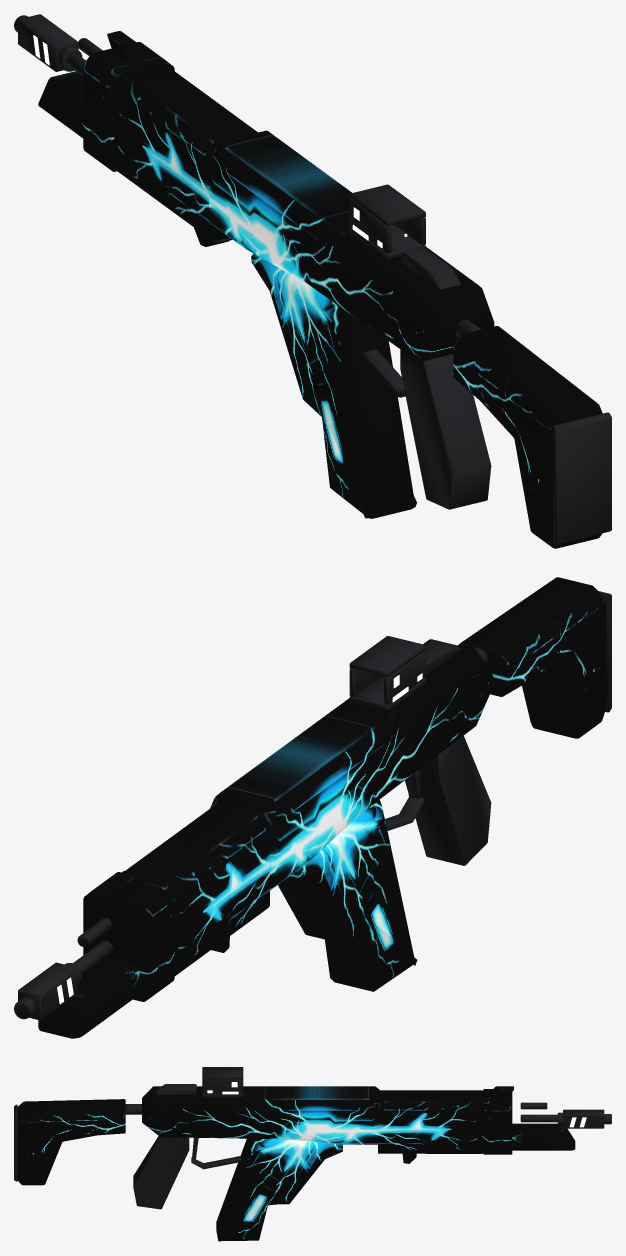
Rendered from pulse_carbine.glb.
The picture shows the model from 3 angles, top to bottom: view 1: azimuth 30°, elevation 25°; view 2: azimuth 150°, elevation 25°; view 3: azimuth 270°, elevation 25°; orthographic projection. The views are drawn at different scales.
Visible parts, largest first — view 1: PulseCarbine; view 2: PulseCarbine; view 3: PulseCarbine.
Boxes of the visible parts, x1=… form: PulseCarbine: x1=14, y1=14, x2=611, y2=548; PulseCarbine: x1=14, y1=577, x2=611, y2=1038; PulseCarbine: x1=14, y1=1067, x2=611, y2=1241.
Size of the model in its own units: 0.055 by 0.2394 by 0.791.
3 materials, 1 textured.
